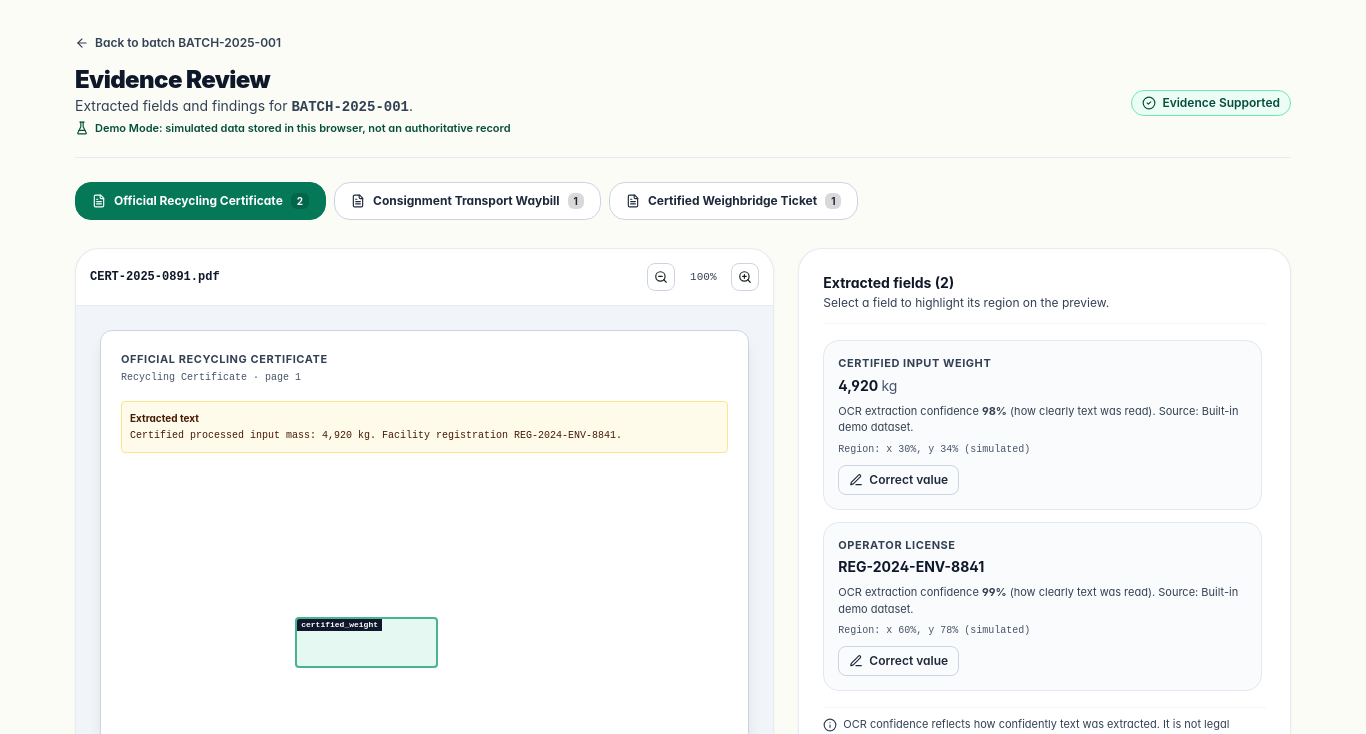
Test case: Evidence workspace › records an audited correction, keeps the original and re-verifies
Expected: the button "Certified Input Weight 4,920 kg" is shown, left=838, top=355, right=1247, bottom=396
Click the button named "Correct value for Certified Input Weight".
click(899, 480)  # box left=838, top=464, right=959, bottom=494
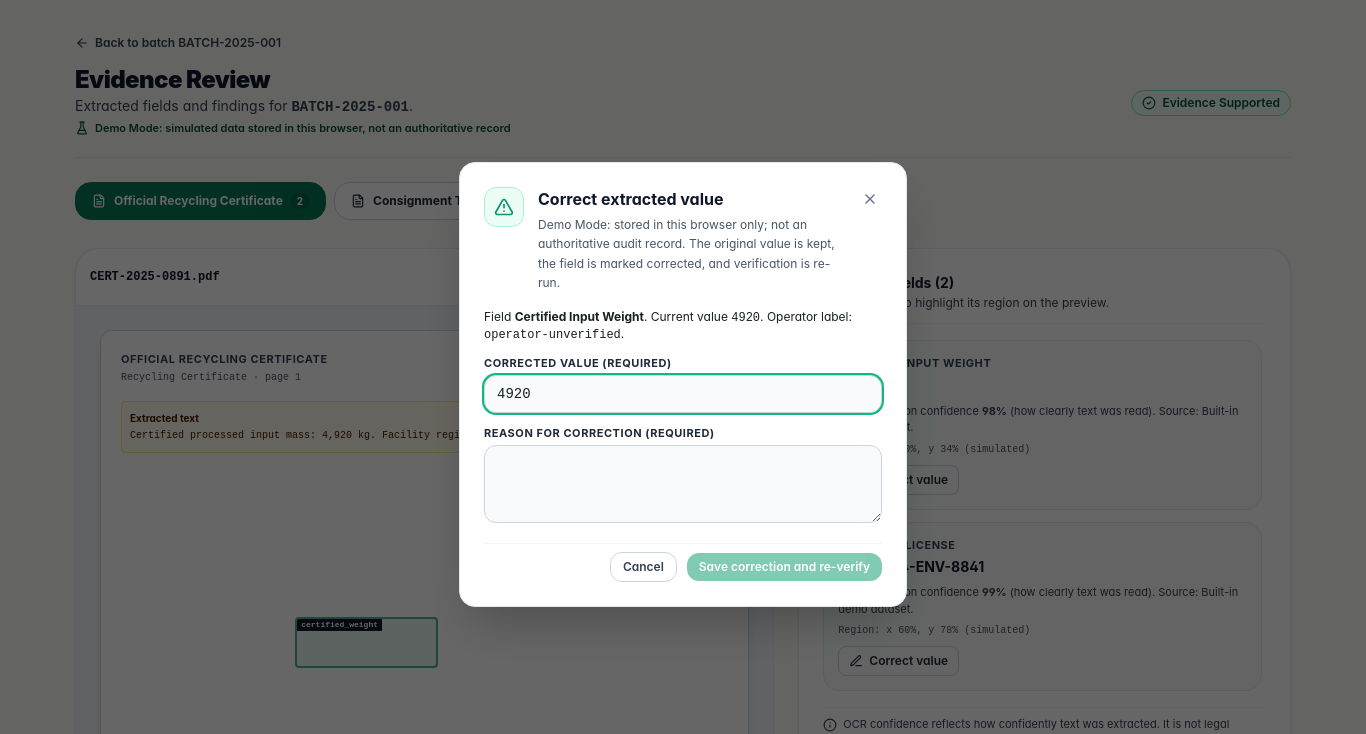
Result: the button "Save correction and re-verify" is disabled at left=687, top=552, right=882, bottom=580
Replace the text in the field labelled "Corrected value (required)" with "abc" at (683, 394), box left=484, top=374, right=882, bottom=412
Type "Scale slip" into the text box labelled "Reason for correction (required)".
click(683, 484); type("Scale slip")  # box left=484, top=444, right=882, bottom=522
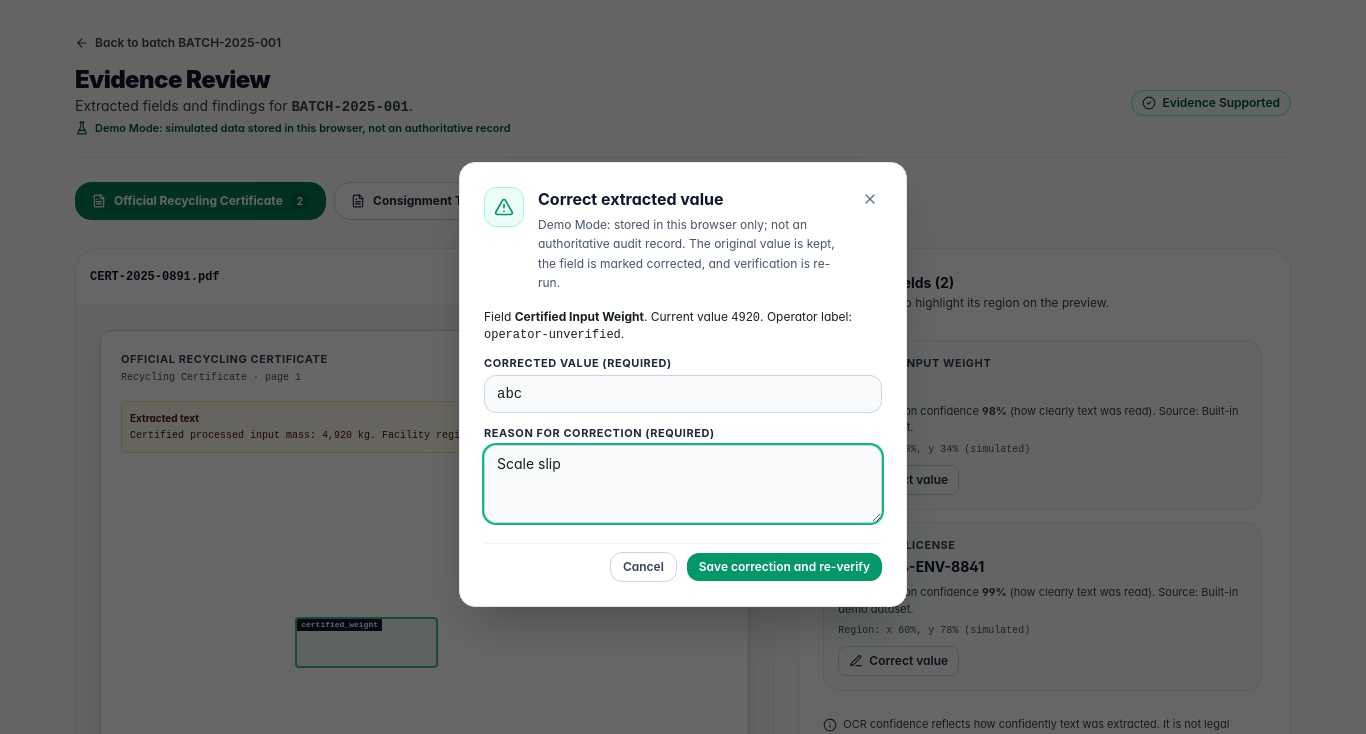
Click the button "Save correction and re-verify".
click(784, 566)  # box left=687, top=552, right=882, bottom=580
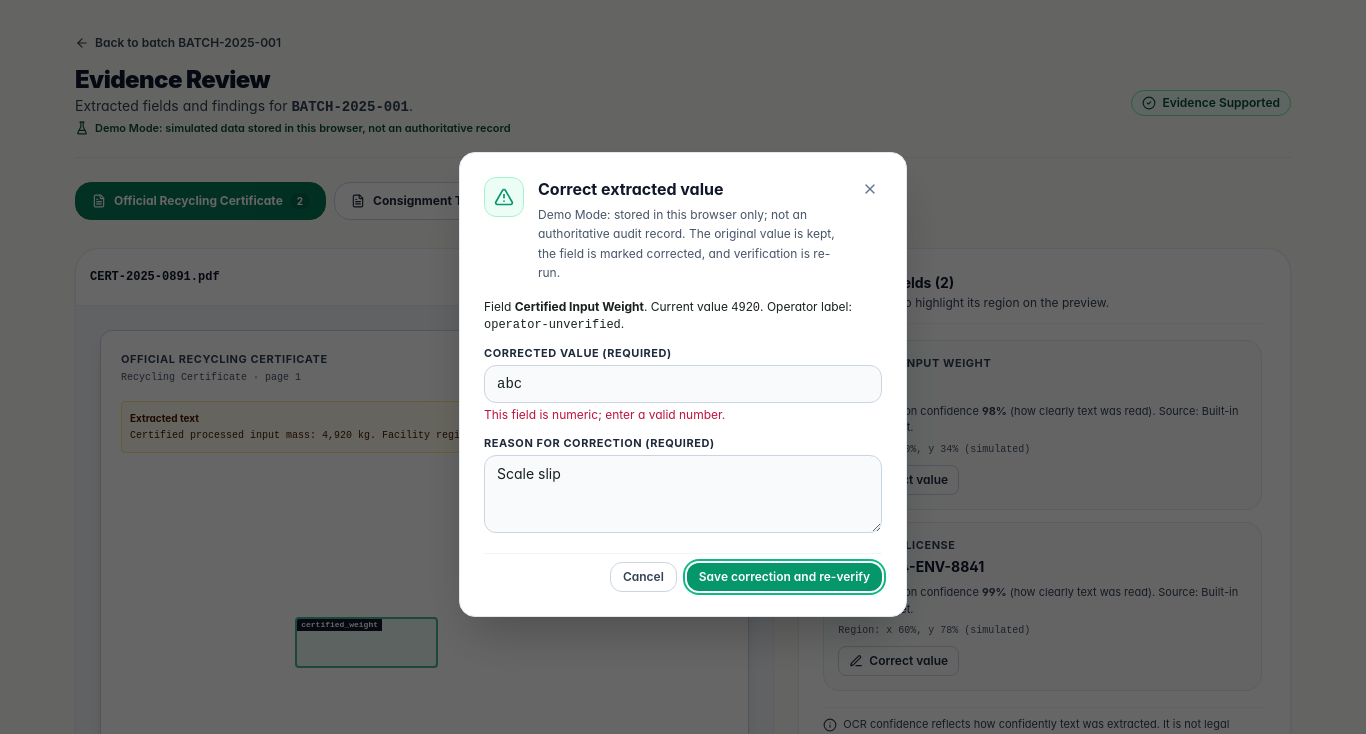
Result: the text "This field is numeric; enter a valid number." is shown at left=484, top=406, right=725, bottom=422
Clear the field labelled "Corrected value (required)" at (683, 384), box left=484, top=364, right=882, bottom=402
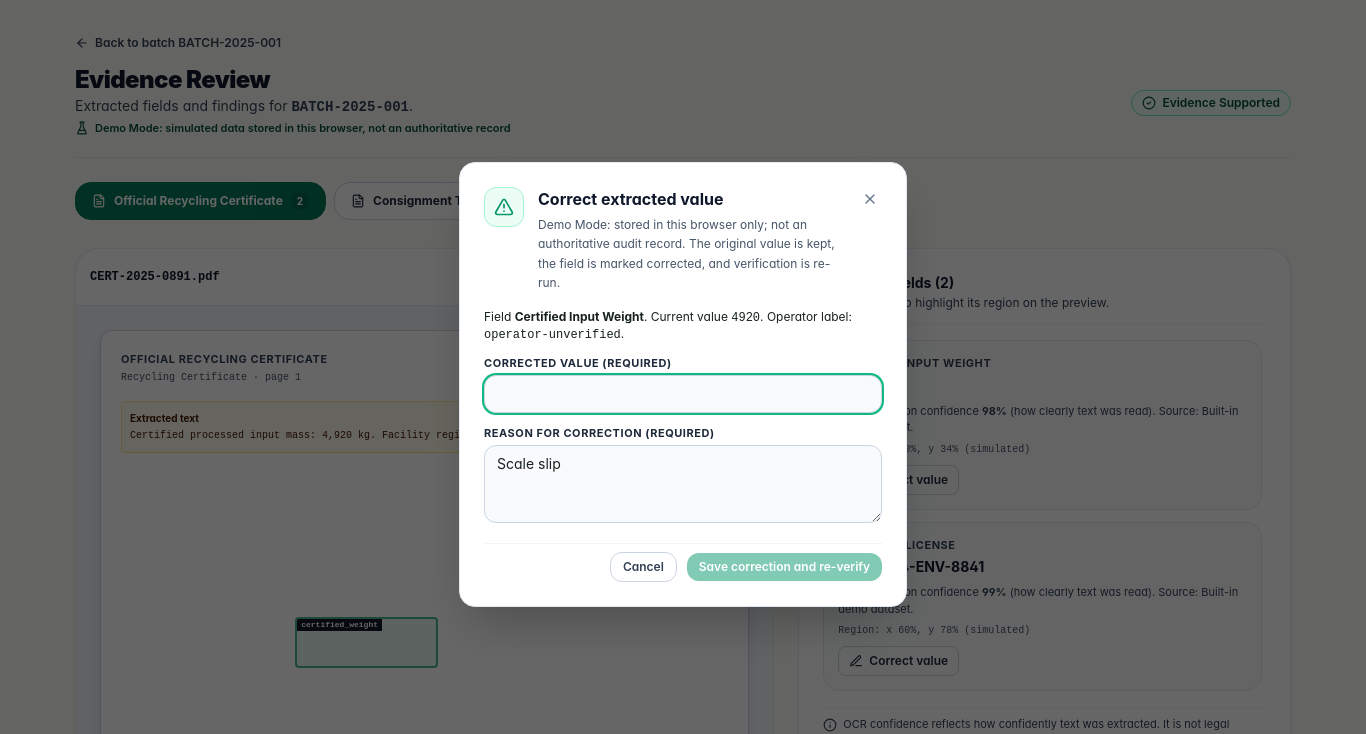
Type "3000" into the field labelled "Corrected value (required)".
click(683, 394); type("3000")  # box left=484, top=374, right=882, bottom=412
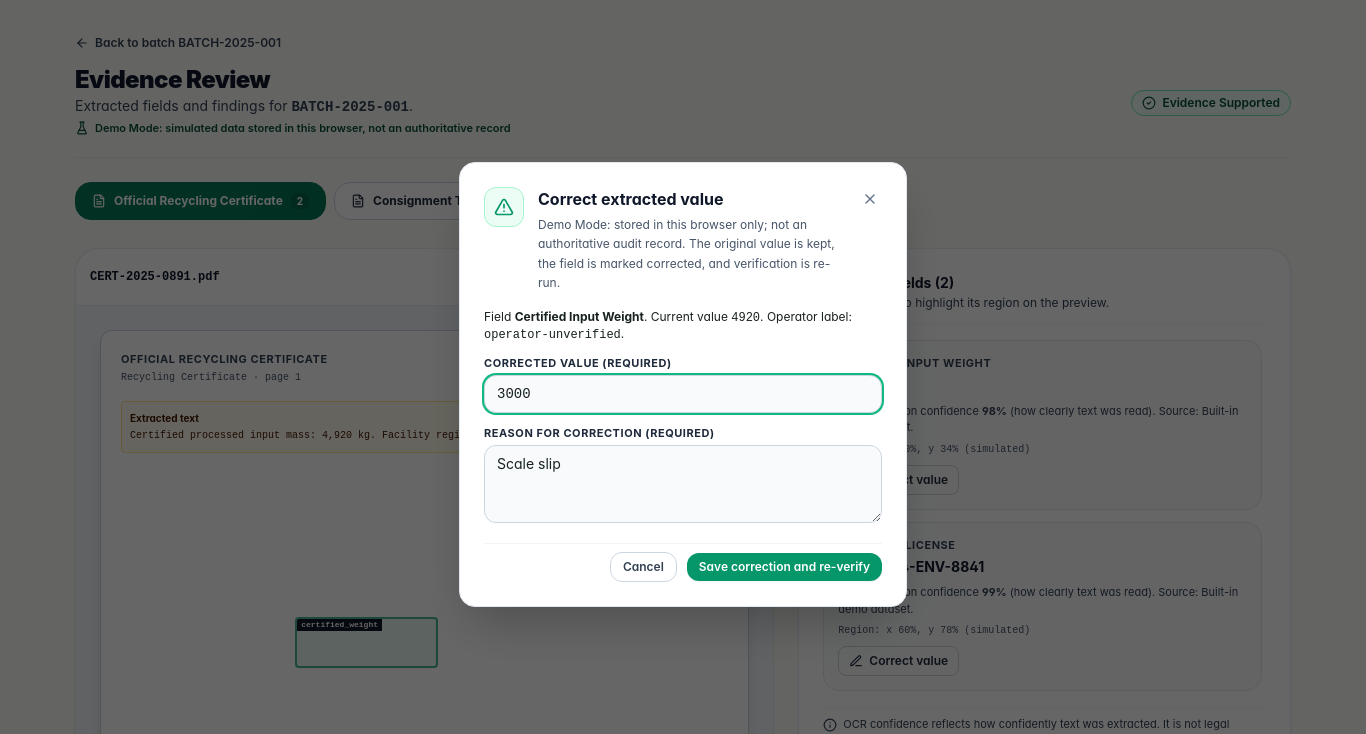
Click the button "Save correction and re-verify".
click(784, 566)  # box left=687, top=552, right=882, bottom=580
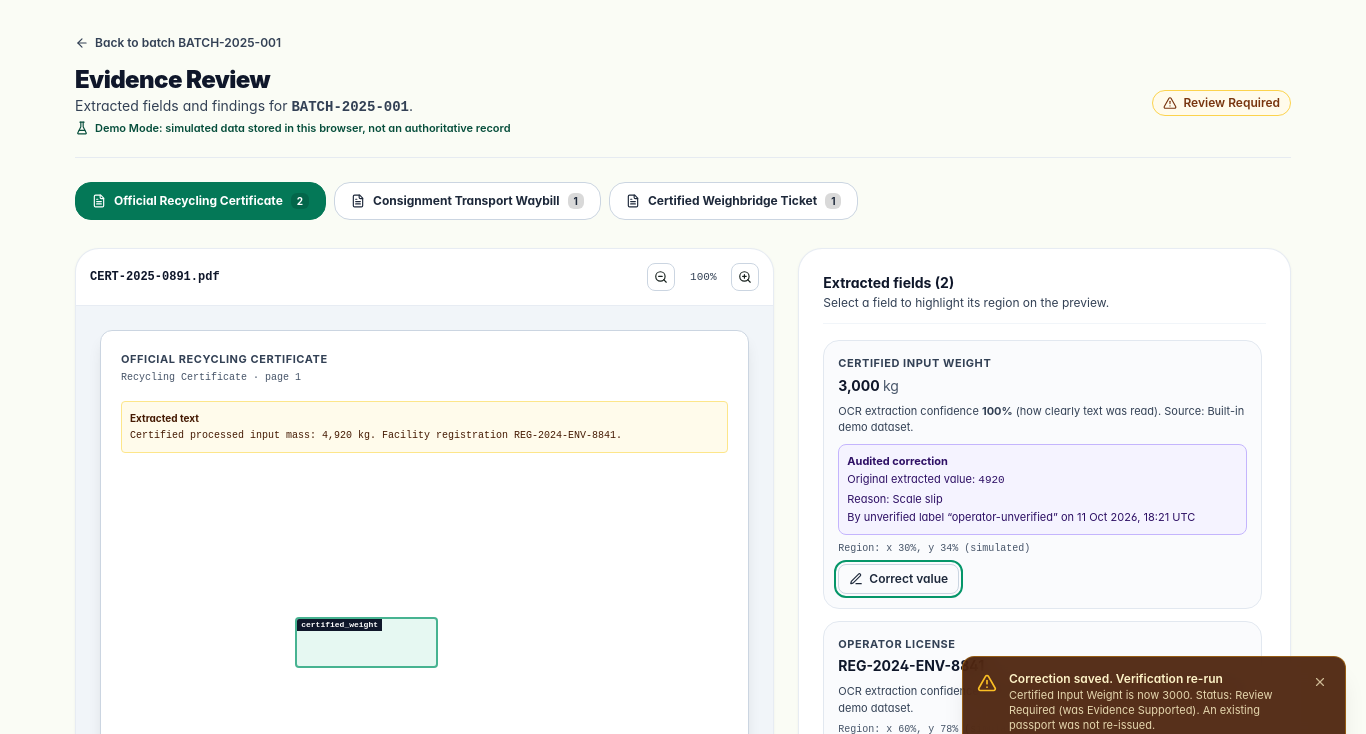
Result: the dialog is gone
Result: the text "Audited correction" is shown at left=847, top=454, right=948, bottom=468
Result: the text "Original extracted value: 4920" is shown at left=847, top=472, right=1005, bottom=486
